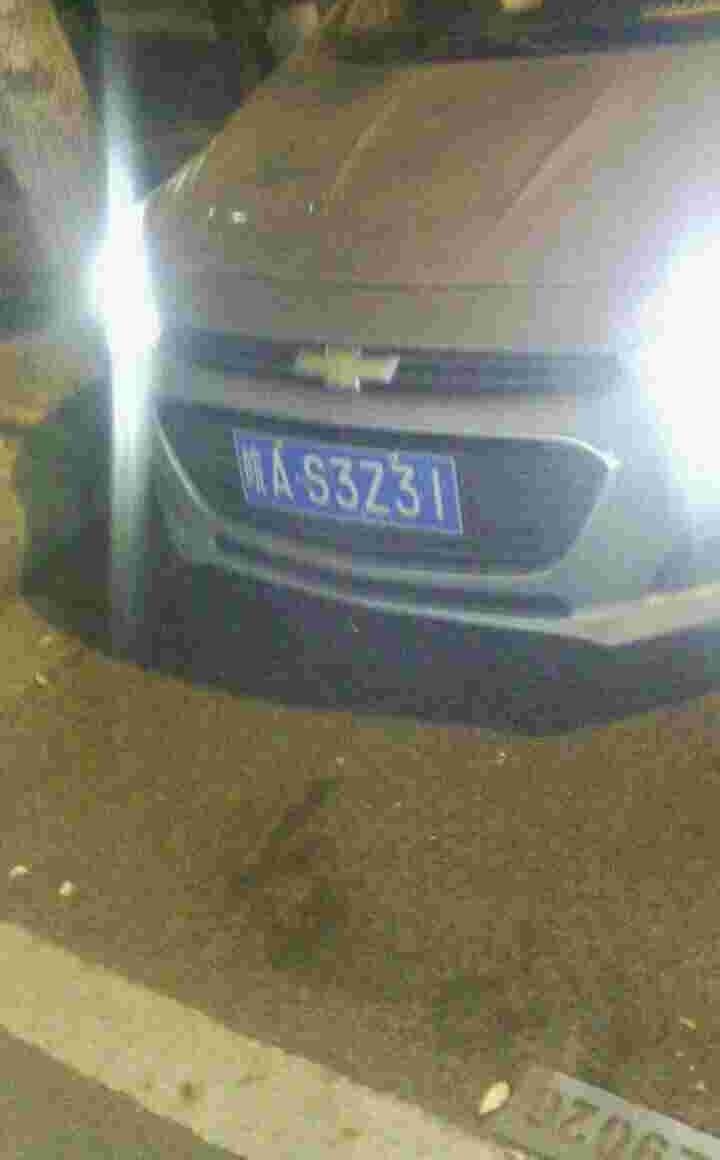plate: (224, 424, 467, 541)
